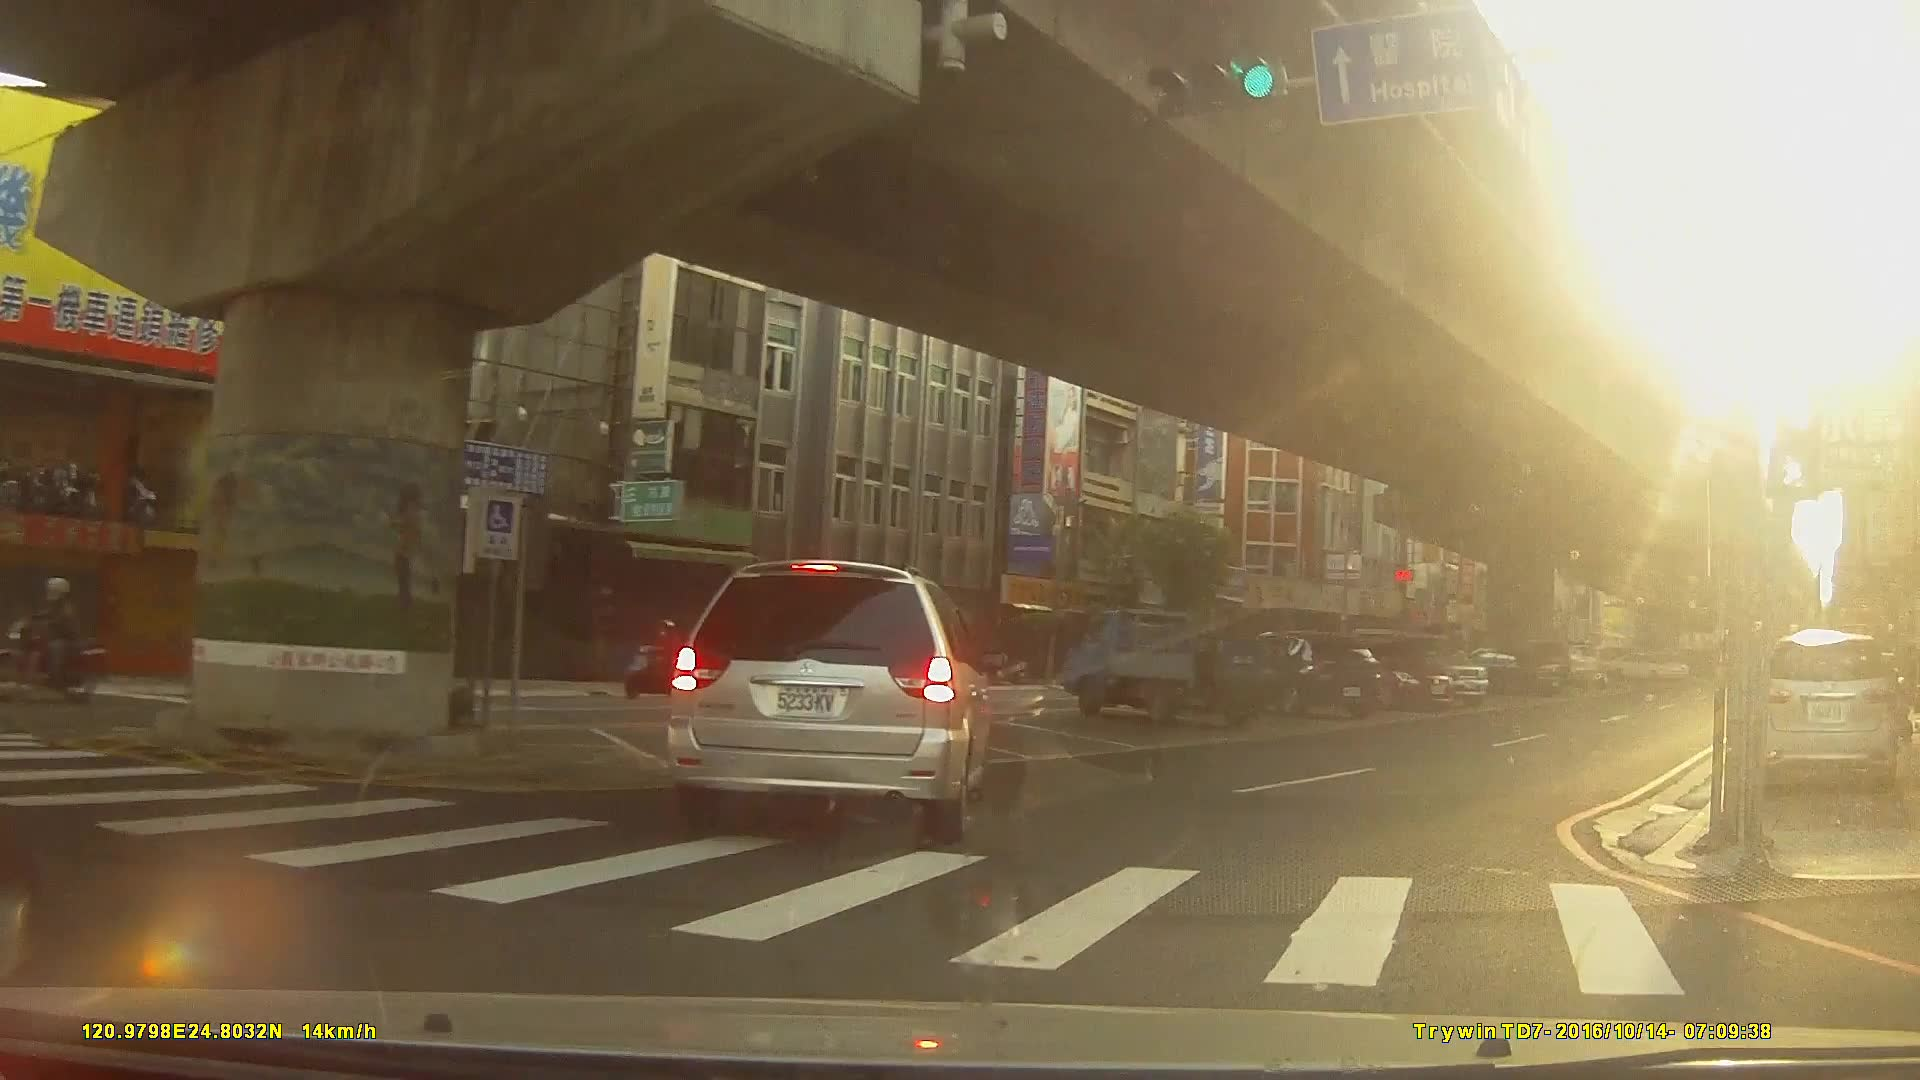rider: (1, 575, 109, 707), (625, 618, 692, 700)
vehicle: (666, 558, 991, 848), (1060, 604, 1280, 724), (1750, 630, 1897, 801), (1227, 627, 1379, 717), (1310, 635, 1455, 710), (1445, 647, 1542, 698)
